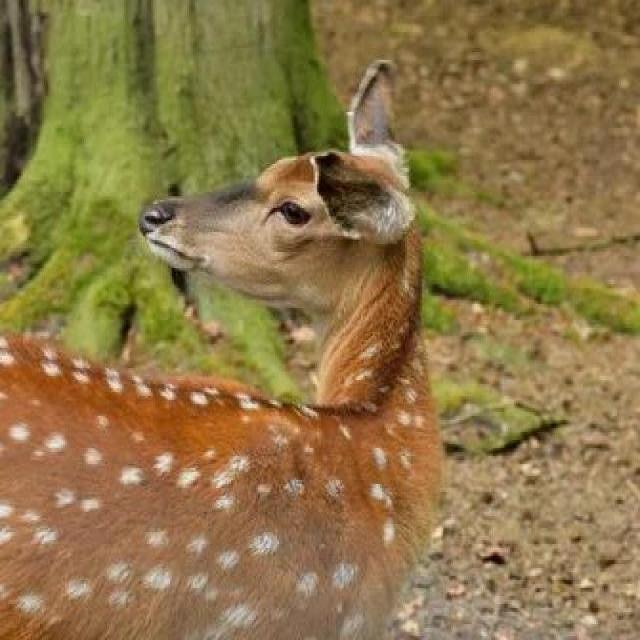deer: (98, 97, 540, 554)
